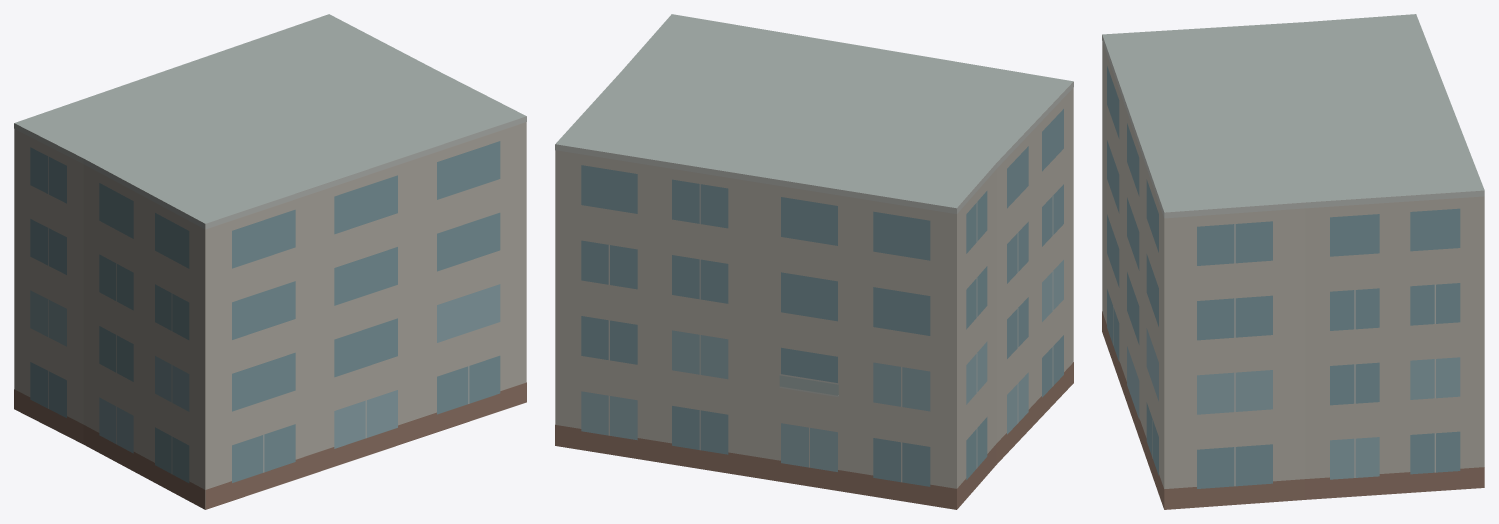
Rendered from survey-upis-32693128.glb.
3 renders of one model, left to right at view 1: azimuth 30°, elevation 25°; view 2: azimuth 150°, elevation 25°; view 3: azimuth 270°, elevation 25°, orthographic. The views are drawn at different scales.
Parts seen in each view (by area): view 1: survey-upis-32693128.tmp; view 2: survey-upis-32693128.tmp; view 3: survey-upis-32693128.tmp.
Part boxes in pixels (x1,y1,x2,y2): survey-upis-32693128.tmp: (14,14,526,509); survey-upis-32693128.tmp: (555,14,1073,509); survey-upis-32693128.tmp: (1102,14,1484,509).
Bounding box in the file's own units: 17.63 × 12.3 × 14.36.
